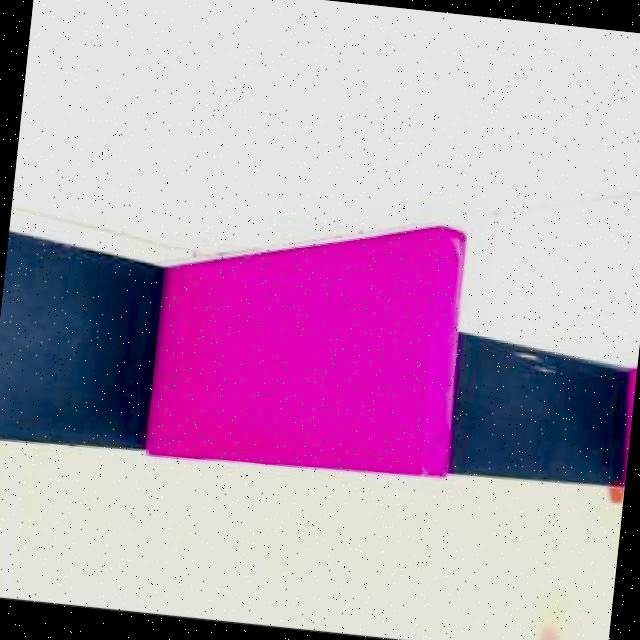xparking: (144, 255, 462, 479)
